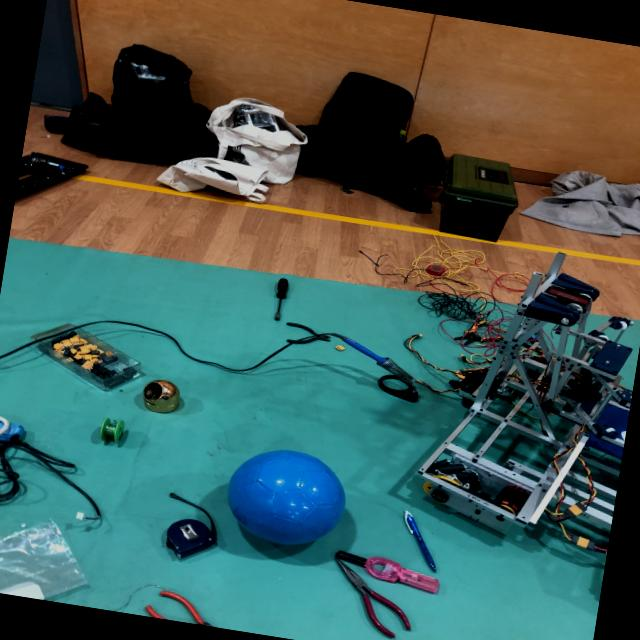blue_ball: (224, 444, 356, 554)
